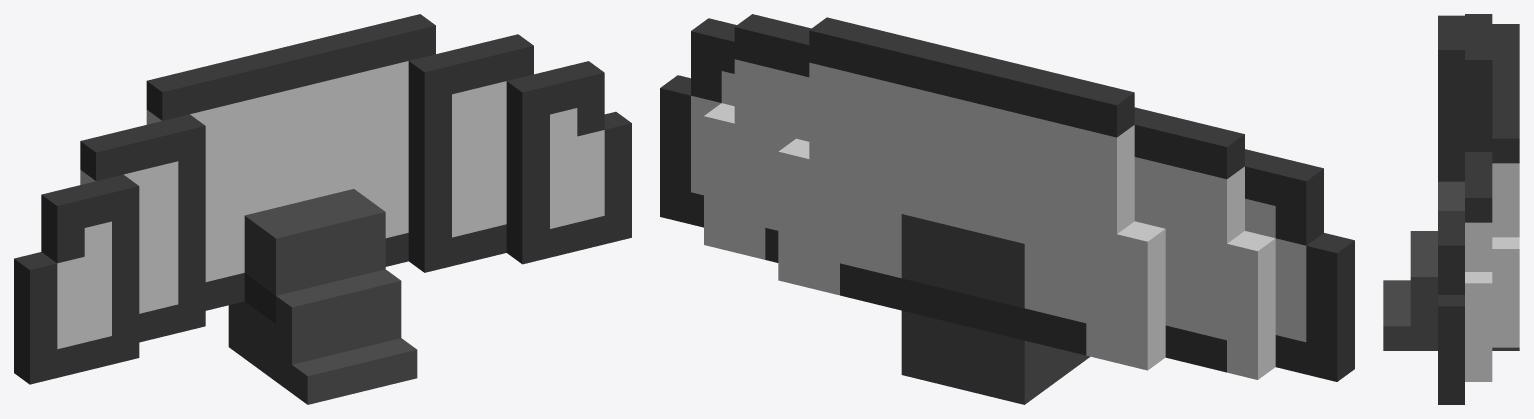
The model's file is _g_airport-0.obj.
3 renders of one model, left to right at view 1: azimuth 30°, elevation 25°; view 2: azimuth 150°, elevation 25°; view 3: azimuth 270°, elevation 25°, orthographic. The views are drawn at different scales.
Size of the model in its own units: 2.2 by 1 by 0.5.
